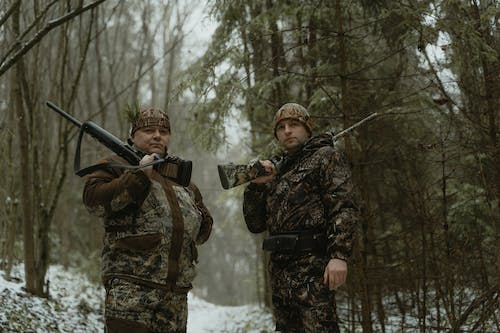gun: (45, 100, 193, 188), (217, 111, 378, 191)
